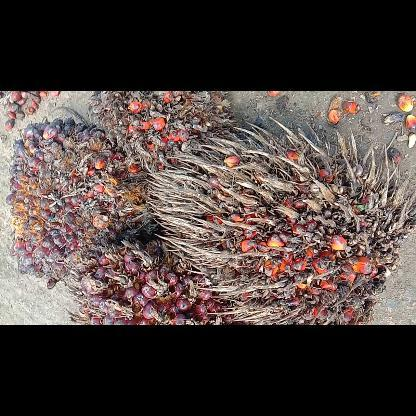TBS masak: (6, 118, 154, 288), (67, 240, 249, 324)
Terlalu masak: (148, 118, 414, 324), (89, 91, 235, 165)
